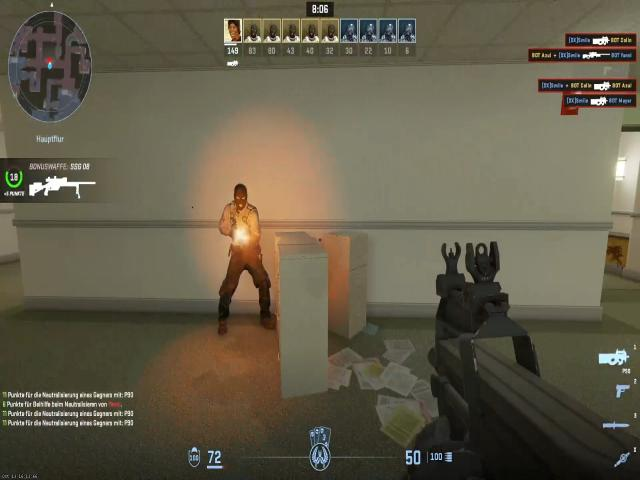T: (216, 176, 256, 264)
T-Head: (232, 184, 250, 211)
